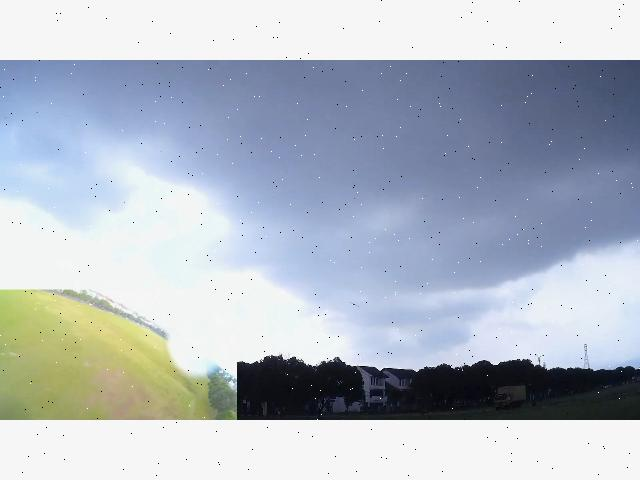Anti-Drone: (345, 295, 371, 317)
